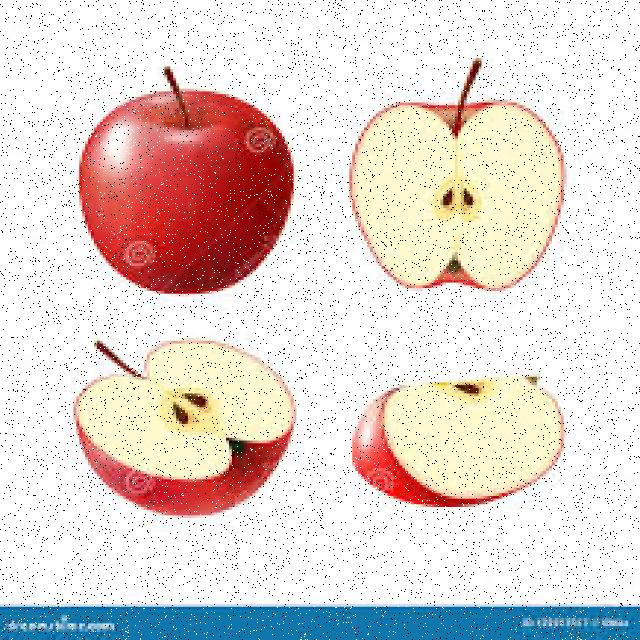Apple: (350, 105, 568, 293), (82, 99, 294, 290), (72, 342, 294, 516), (354, 381, 568, 508)
